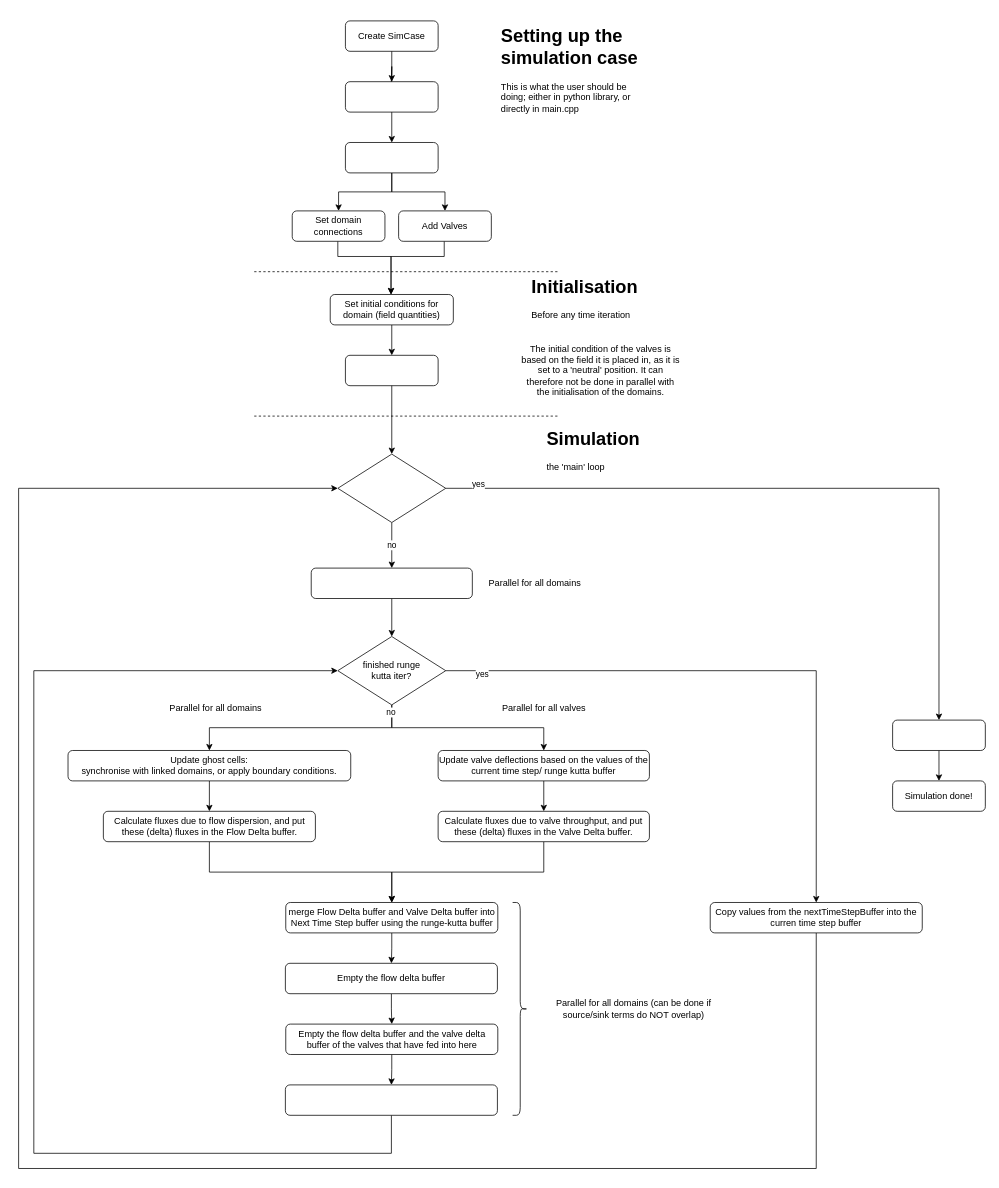
Image size: 999x1188. Some labels were removed from this diagram. Each missing label, with the centre of its shape:
Add domains: the point at 391,157
Copy values from current time step to runge-kutta buffer: the point at 391,582
Copy values from the nextTimeStepBuffer into the RungeKutta buffer: the point at 391,1099
export final data: the point at 938,734
Set initial conditions for valves: the point at 391,370
Set settings in SimCase: the point at 391,96
t > t_end?: the point at 391,487
